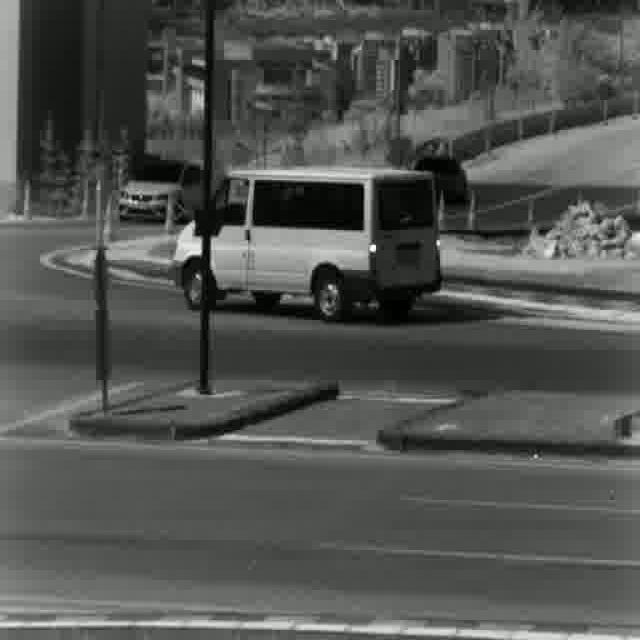Car: (176, 169, 435, 306), (116, 160, 203, 222), (414, 157, 466, 206)
